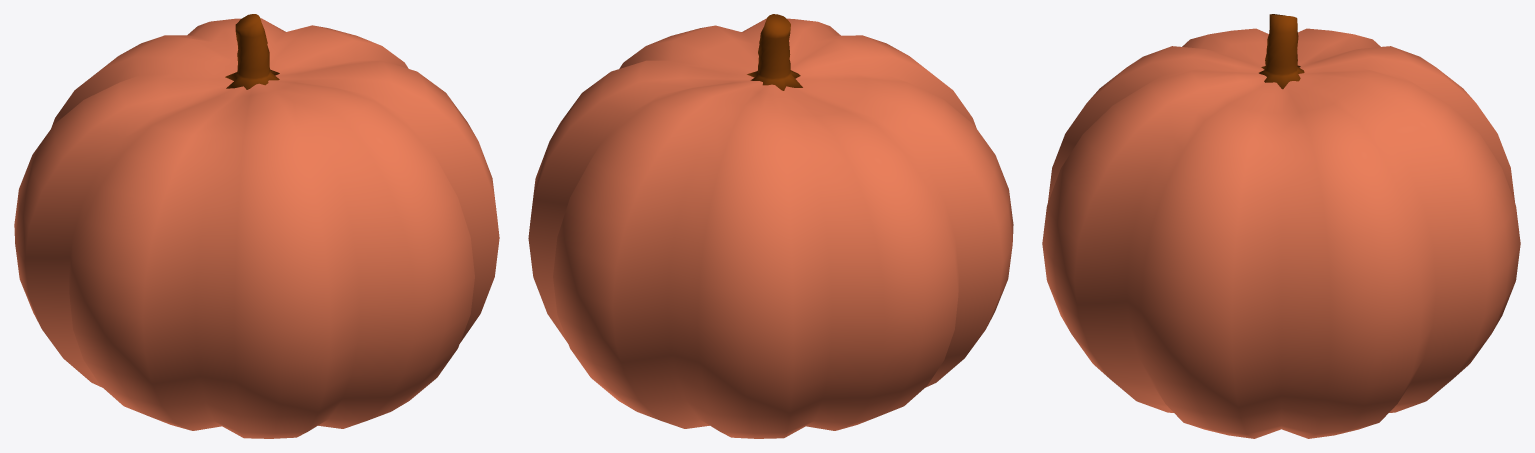
The model's file is pumpkin2.glb.
3 views of the same model, side by side, from view 1: azimuth 30°, elevation 25°; view 2: azimuth 150°, elevation 25°; view 3: azimuth 270°, elevation 25° (orthographic).
Parts seen in each view (by area): view 1: Sphere; view 2: Sphere; view 3: Sphere.
Boxes of the visible parts, x1,y1,x2,y2 form: Sphere: (14,14,499,438); Sphere: (528,14,1013,438); Sphere: (1042,14,1520,438).
Size of the model in its own units: 2.26 by 1.99 by 2.28.
